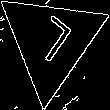L_SW: (25, 12, 77, 71)
